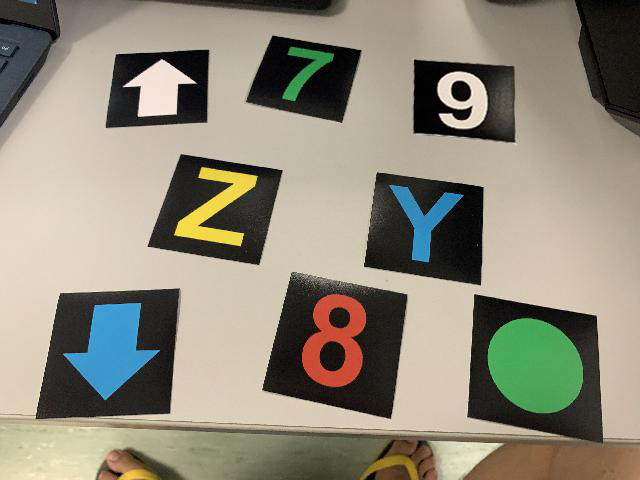alphabet_y: (364, 171, 485, 287)
alphabet_z: (145, 150, 285, 267)
down_arrow: (35, 286, 183, 422)
eight: (261, 270, 410, 420)
go: (465, 292, 607, 448)
nine: (412, 58, 519, 144)
seven: (244, 33, 363, 126)
up_arrow: (104, 47, 211, 132)
